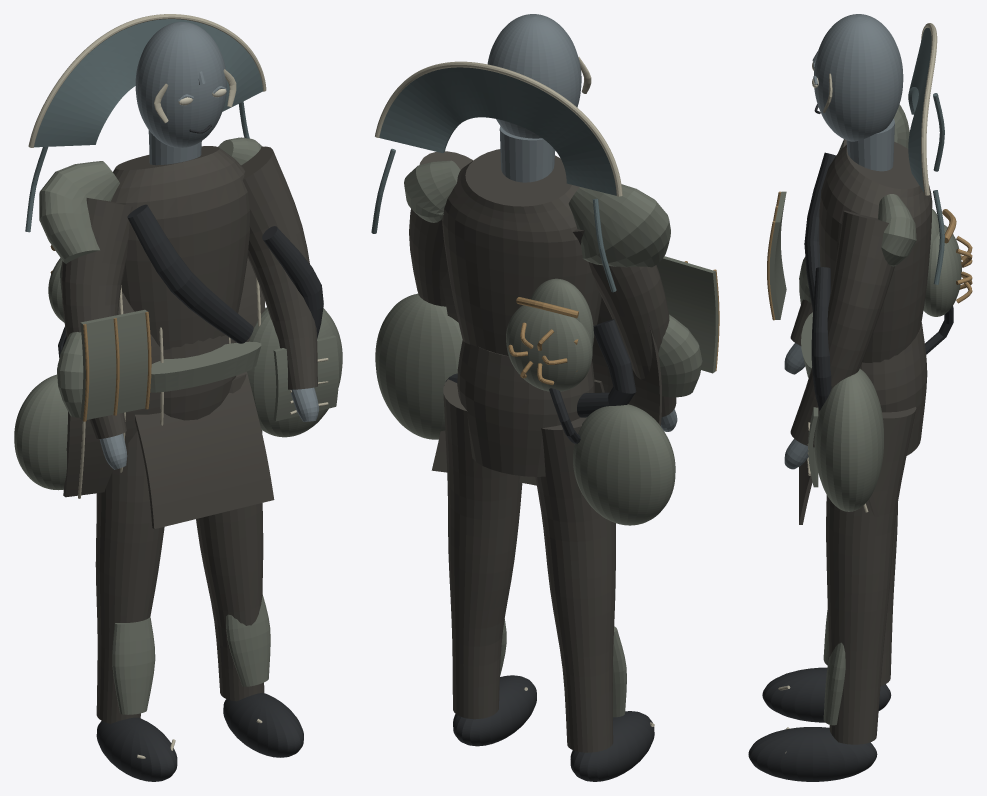
Rendered from CampWitness.obj.
3 views of the same model, side by side, from view 1: azimuth 30°, elevation 25°; view 2: azimuth 150°, elevation 25°; view 3: azimuth 270°, elevation 25° (orthographic). The views are drawn at different scales.
Visible parts, largest first — view 1: Avarin_Torso, Salvage_SplitFieldApron, Avarin_Leg_L, Avarin_LivingCrescentMantle, Avarin_Arm_R, Avarin_TempleFace, Avarin_Leg_R, Avarin_Arm_L, Witness_FoldedCampSignalPlate, Witness_LeftLayeredShoulder, Witness_LeftCampPack, Witness_OffsetFieldOvercoat (+17 smaller); view 2: Avarin_Torso, Avarin_Leg_L, Avarin_Leg_R, Avarin_LivingCrescentMantle, Avarin_Pelvis, Witness_LeftCampPack, Witness_RightRegistrySatchel, Witness_LeftLayeredShoulder, Avarin_TempleFace, Avarin_Arm_L, Witness_BackSignalRelay, Witness_FoldedCampSignalPlate (+12 smaller); view 3: Avarin_Leg_R, Avarin_Torso, Avarin_TempleFace, Avarin_Arm_R, Witness_RightRegistrySatchel, Avarin_Foot_R, Avarin_Pelvis, Avarin_Foot_L, Witness_RightInventoryHinge, Witness_BackSignalRelay, Avarin_LivingCrescentMantle, Witness_RightOpenShoulder (+16 smaller).
Boxes of the visible parts, left/top/right/bottom form: Avarin_Torso: left=111, top=146, right=249, bottom=350; Salvage_SplitFieldApron: left=135, top=372, right=274, bottom=529; Avarin_Leg_L: left=95, top=431, right=164, bottom=723; Avarin_LivingCrescentMantle: left=34, top=19, right=262, bottom=147; Avarin_Arm_R: left=241, top=146, right=317, bottom=389; Avarin_TempleFace: left=135, top=21, right=226, bottom=147; Avarin_Leg_R: left=196, top=374, right=264, bottom=701; Avarin_Arm_L: left=61, top=198, right=132, bottom=438; Witness_FoldedCampSignalPlate: left=80, top=309, right=147, bottom=420; Witness_LeftLayeredShoulder: left=39, top=161, right=119, bottom=263; Witness_LeftCampPack: left=14, top=374, right=67, bottom=490; Witness_OffsetFieldOvercoat: left=63, top=258, right=265, bottom=497; Avarin_Torso: left=442, top=149, right=601, bottom=355; Avarin_Leg_L: left=535, top=417, right=615, bottom=752; Avarin_Leg_R: left=443, top=379, right=522, bottom=719; Avarin_LivingCrescentMantle: left=379, top=67, right=616, bottom=195; Avarin_Pelvis: left=457, top=340, right=594, bottom=476; Witness_LeftCampPack: left=573, top=404, right=675, bottom=525; Witness_RightRegistrySatchel: left=375, top=293, right=462, bottom=439; Witness_LeftLayeredShoulder: left=568, top=184, right=670, bottom=267; Avarin_TempleFace: left=487, top=14, right=581, bottom=138; Avarin_Arm_L: left=572, top=229, right=676, bottom=417; Witness_BackSignalRelay: left=506, top=305, right=592, bottom=391; Witness_FoldedCampSignalPlate: left=656, top=256, right=718, bottom=373; Avarin_Leg_R: left=826, top=407, right=916, bottom=744; Avarin_Torso: left=819, top=142, right=932, bottom=362; Avarin_TempleFace: left=814, top=14, right=903, bottom=141; Avarin_Arm_R: left=790, top=210, right=894, bottom=447; Witness_RightRegistrySatchel: left=814, top=368, right=883, bottom=511; Avarin_Foot_R: left=748, top=727, right=877, bottom=781; Avarin_Pelvis: left=860, top=322, right=927, bottom=455; Avarin_Foot_L: left=762, top=667, right=891, bottom=722; Witness_RightInventoryHinge: left=811, top=267, right=831, bottom=410; Witness_BackSignalRelay: left=923, top=225, right=961, bottom=316; Avarin_LivingCrescentMantle: left=908, top=27, right=931, bottom=192; Witness_RightOpenShoulder: left=878, top=194, right=916, bottom=266.
Size of the model in its own units: 0.8 by 1.82 by 0.5047.
